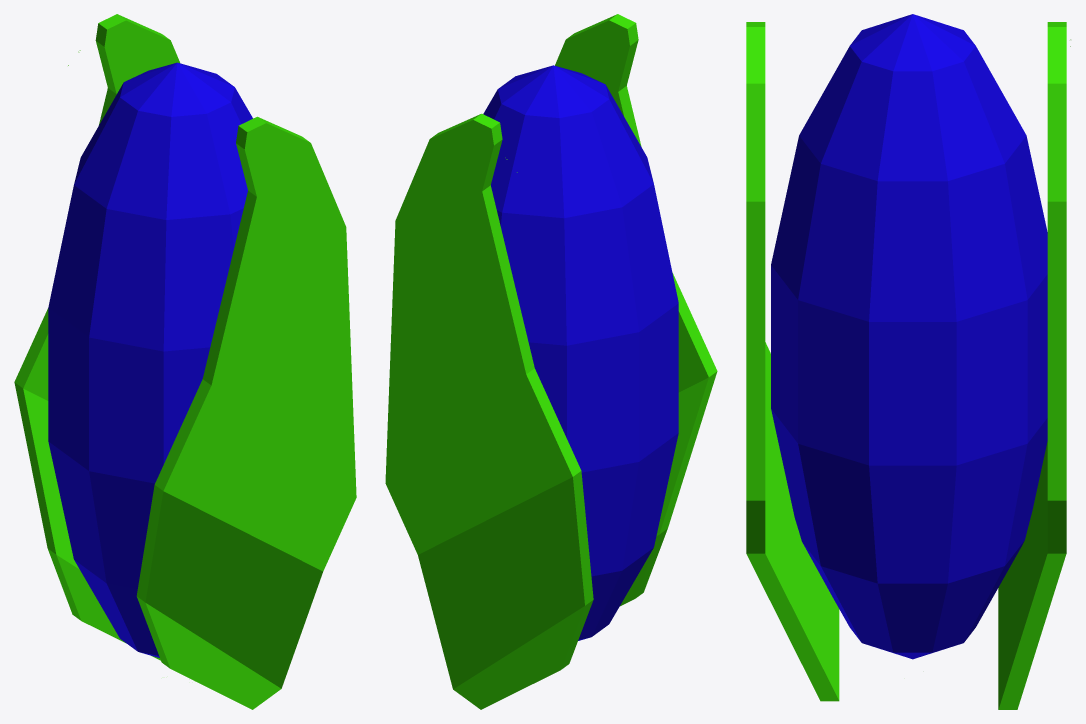
The model's file is mais 1.fbx.
The picture shows the model from 3 angles, left to right: view 1: azimuth 30°, elevation 25°; view 2: azimuth 150°, elevation 25°; view 3: azimuth 270°, elevation 25°; orthographic projection. The views are drawn at different scales.
Parts seen in each view (by area): view 1: Plane; view 2: Plane; view 3: Plane.
Boxes of the visible parts, box(x1,y1,x2,y2) form: Plane: box(14, 14, 356, 709); Plane: box(385, 14, 717, 709); Plane: box(746, 14, 1070, 709).
Bounding box in the file's own units: 20.26 × 56.54 × 24.44.
